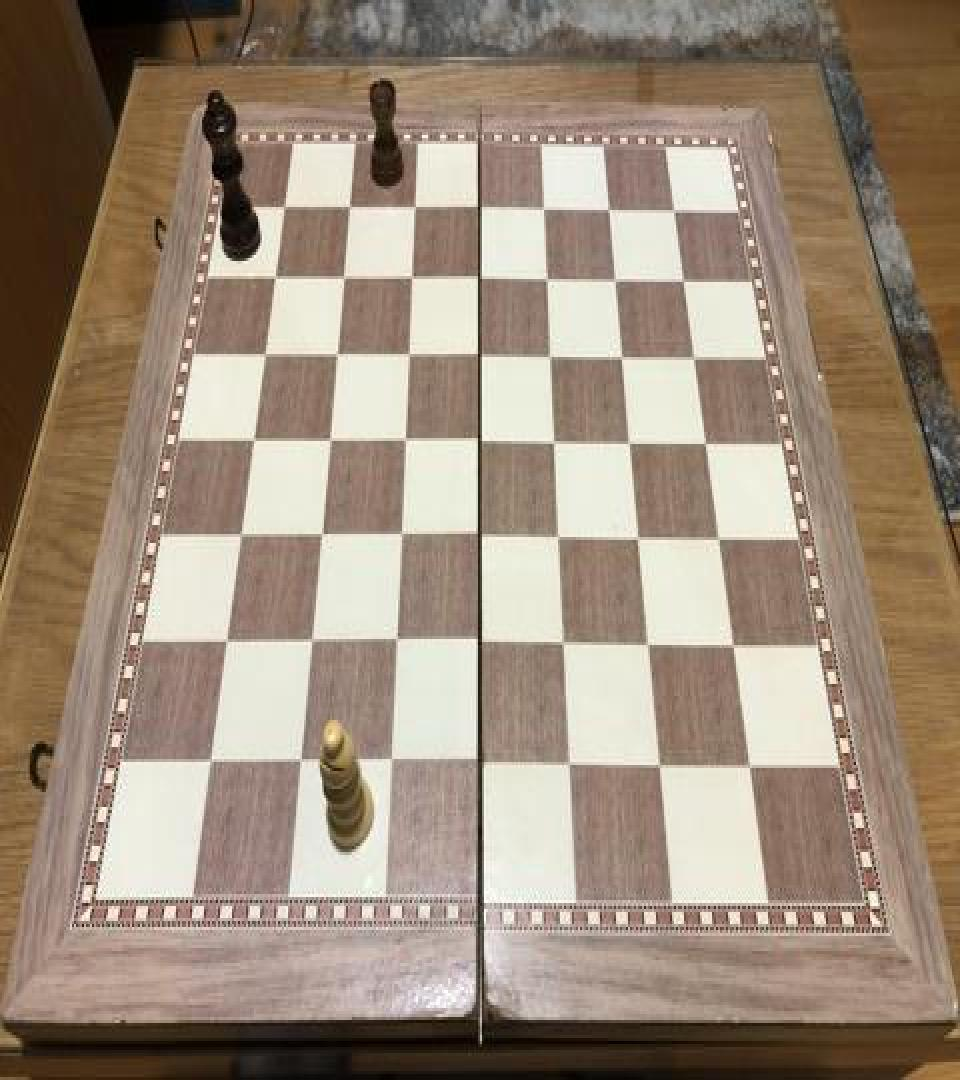xcorner: (468, 520, 492, 557), (388, 520, 412, 557), (298, 625, 322, 662), (213, 625, 237, 662), (649, 748, 673, 785), (558, 748, 582, 785), (664, 196, 688, 232), (599, 195, 623, 231), (534, 195, 558, 231), (469, 194, 493, 230), (403, 194, 427, 230), (338, 194, 362, 230), (273, 192, 297, 228), (674, 266, 698, 302), (605, 266, 629, 302), (537, 264, 561, 300), (468, 264, 492, 300), (400, 264, 424, 300), (332, 262, 356, 298), (263, 262, 287, 298), (684, 342, 708, 378), (612, 342, 636, 378), (540, 342, 564, 378), (468, 340, 492, 376), (396, 340, 420, 376), (324, 339, 348, 375), (252, 339, 276, 375), (696, 428, 720, 464), (620, 428, 644, 464), (544, 426, 568, 462), (468, 426, 492, 462), (392, 424, 416, 460), (316, 424, 340, 460), (241, 424, 265, 460), (709, 524, 733, 560), (628, 522, 652, 558), (548, 522, 572, 558), (308, 519, 332, 555), (227, 519, 251, 555), (723, 630, 747, 666), (638, 628, 662, 664), (553, 628, 577, 664), (468, 627, 492, 663), (383, 627, 407, 663), (739, 750, 763, 786), (468, 747, 492, 783), (377, 747, 401, 783), (286, 746, 310, 782), (196, 746, 220, 782)
